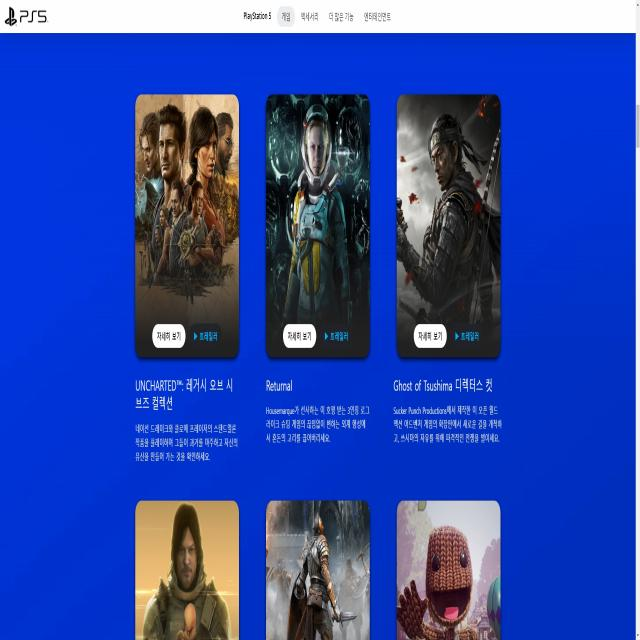tab-bar: (241, 7, 395, 25)
